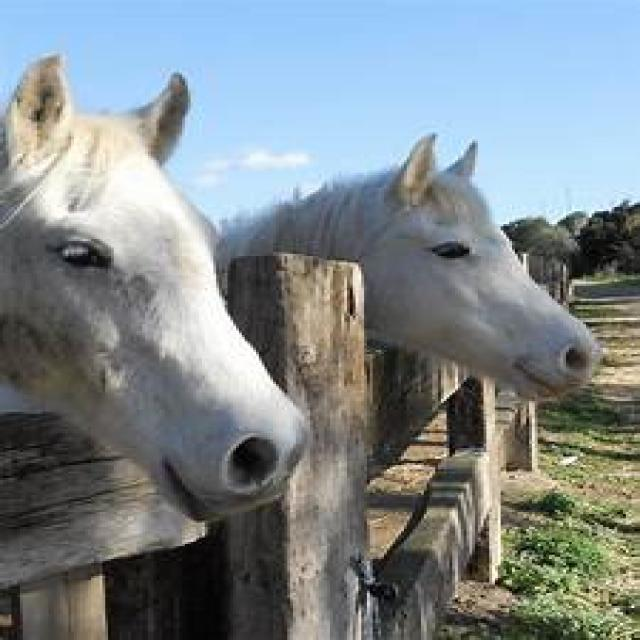horse: (0, 53, 310, 523), (210, 134, 600, 405)
